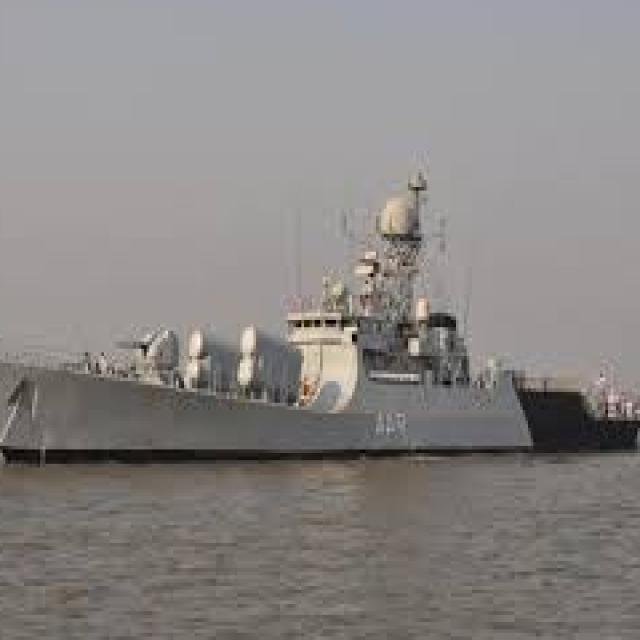navalvessels: (0, 169, 635, 475)
